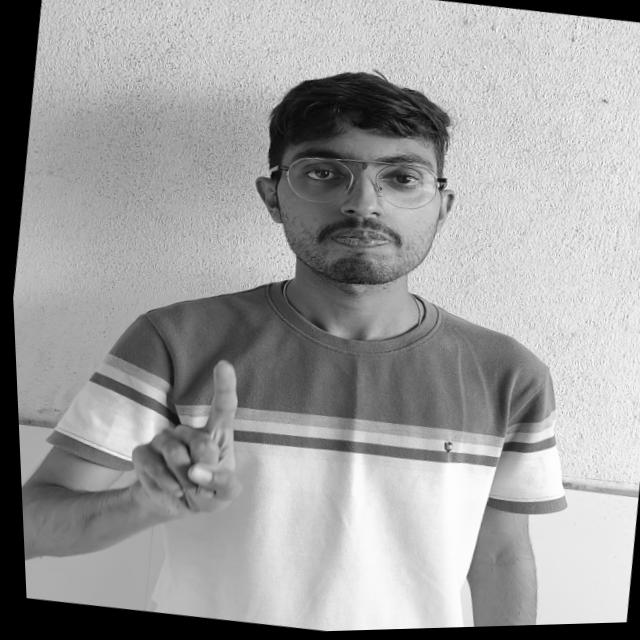Question: (60, 330, 352, 556)
